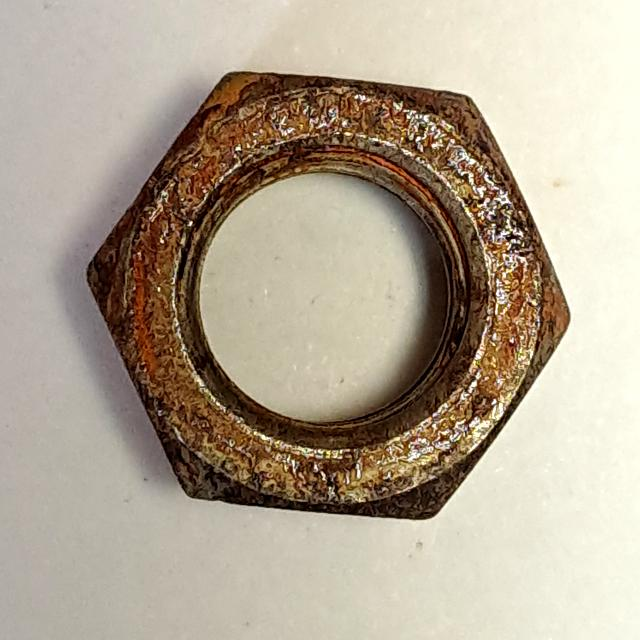Rust: (79, 55, 588, 542)
